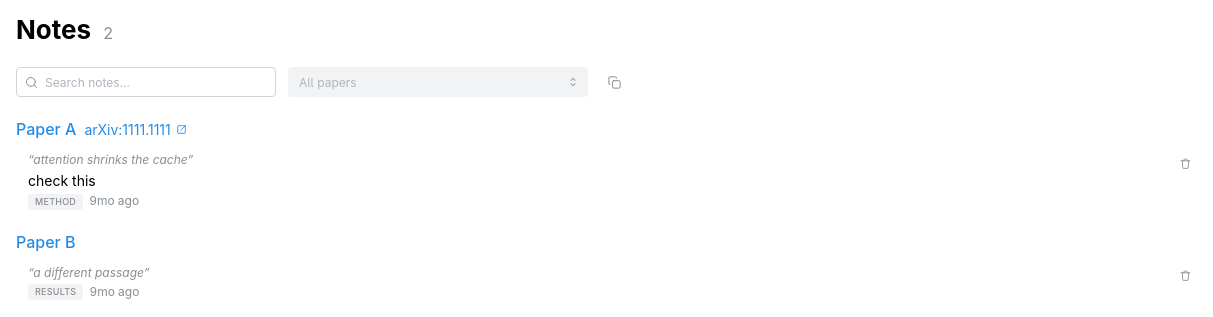
Test case: NotesPage › deletes a note on confirm and removes it from the list
expect the text "“attention shrinks the cache”" is shown: met, box x1=28 y1=152 x2=193 y2=167
Click the 1st button named "Delete note" at (1185, 163), box x1=1174 y1=152 x2=1196 y2=174
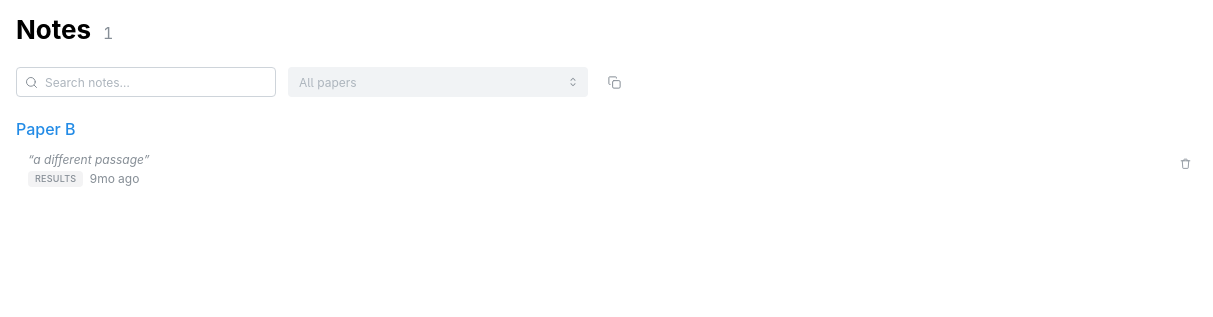
expect the button "attention shrinks the cache" is gone: met
